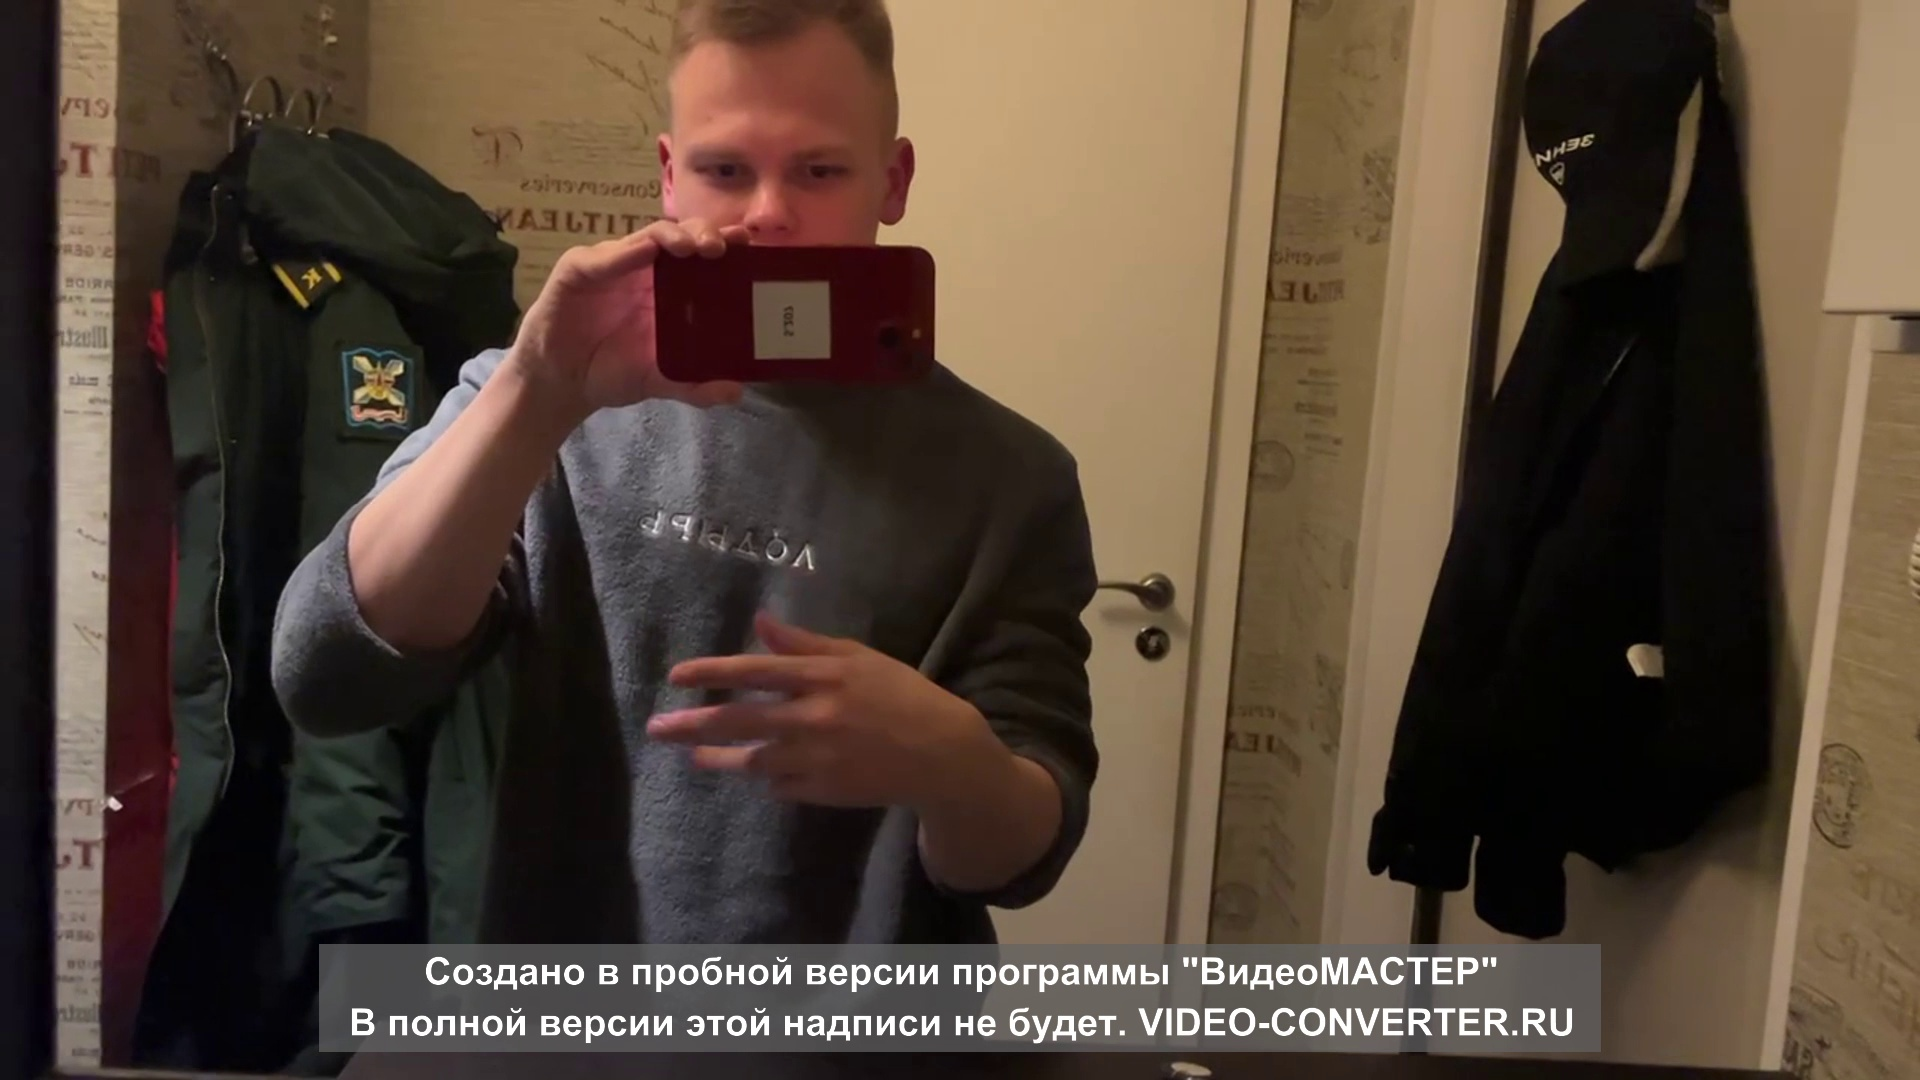Кисть: (646, 609, 996, 812)
